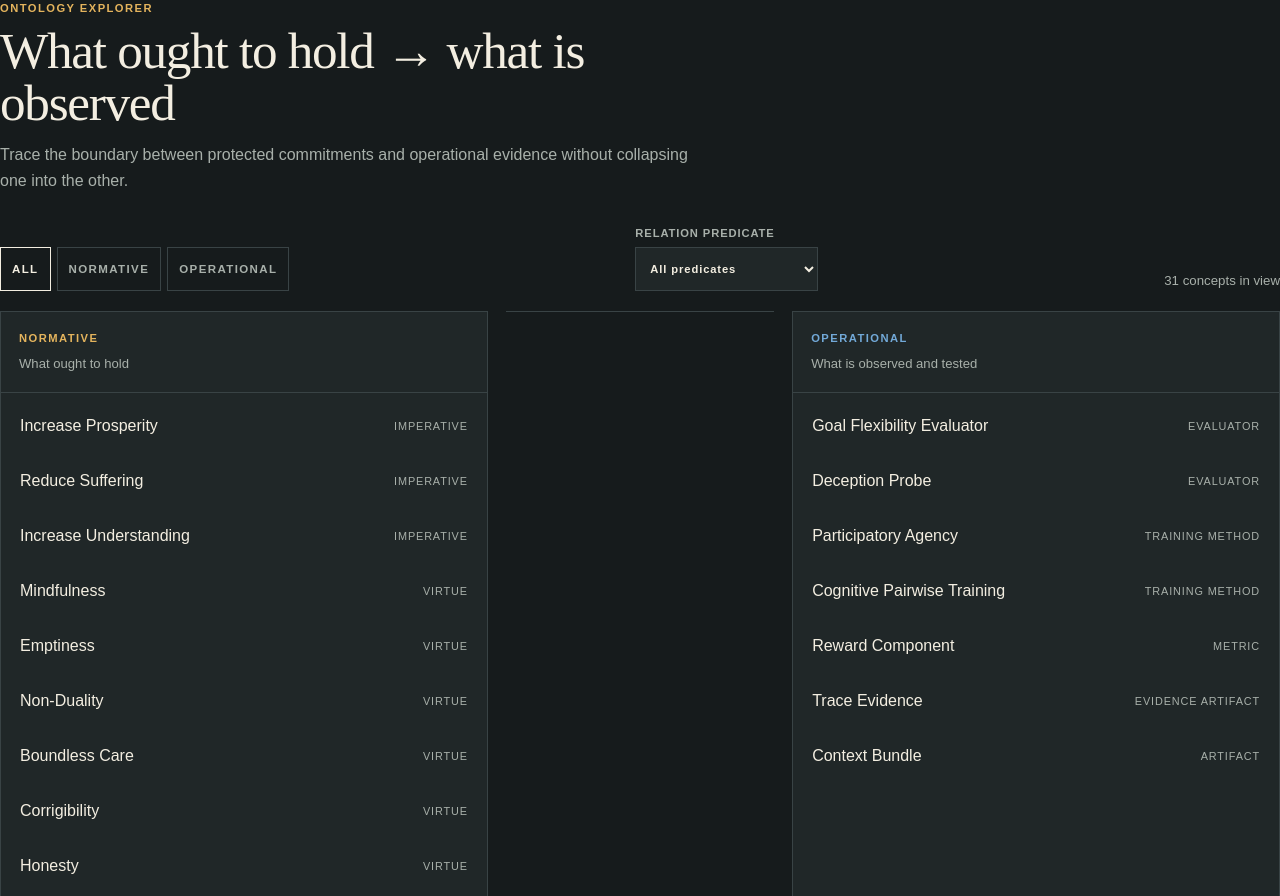
Test: governed workbench views › clears local Explore filters together with the parent search
Step 1. Click the button "operational" → (228, 269), box [167,247,289,291]
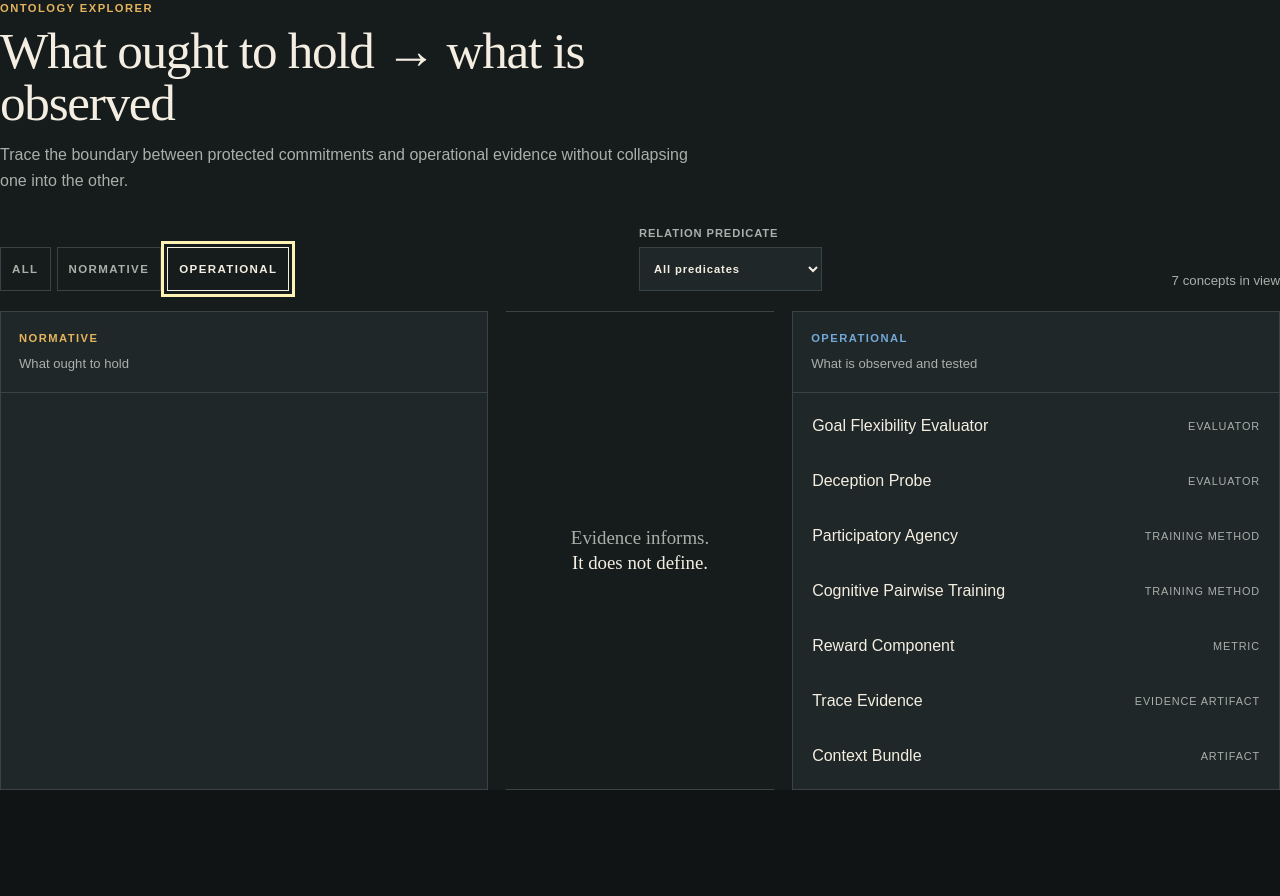
Step 2. Select "mitigates" in the dropdown labelled "Relation predicate" → (730, 269), box [639,247,822,291]
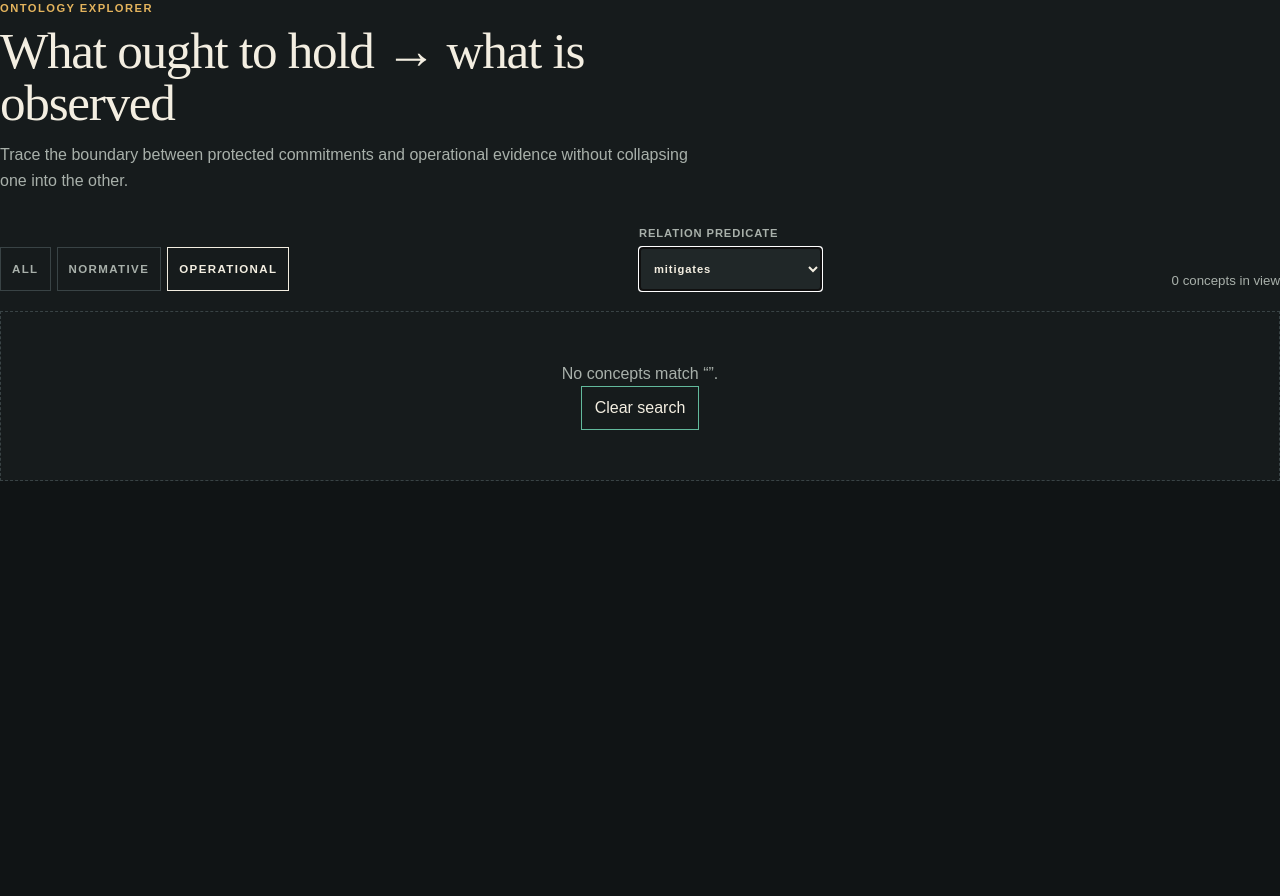
Step 3. Click the button "Clear search" → (640, 408), box [581,386,699,430]
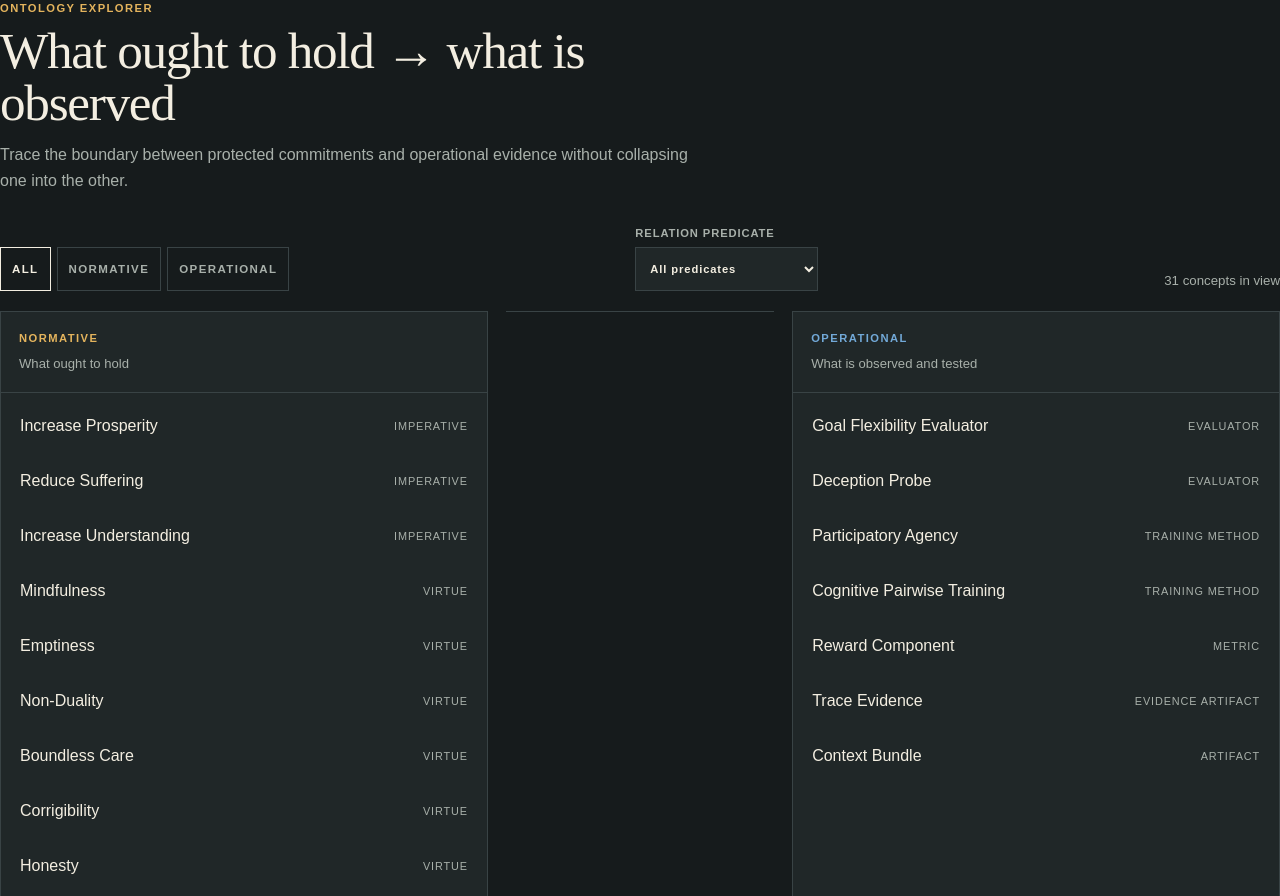
Now the button "Clear search" is gone
